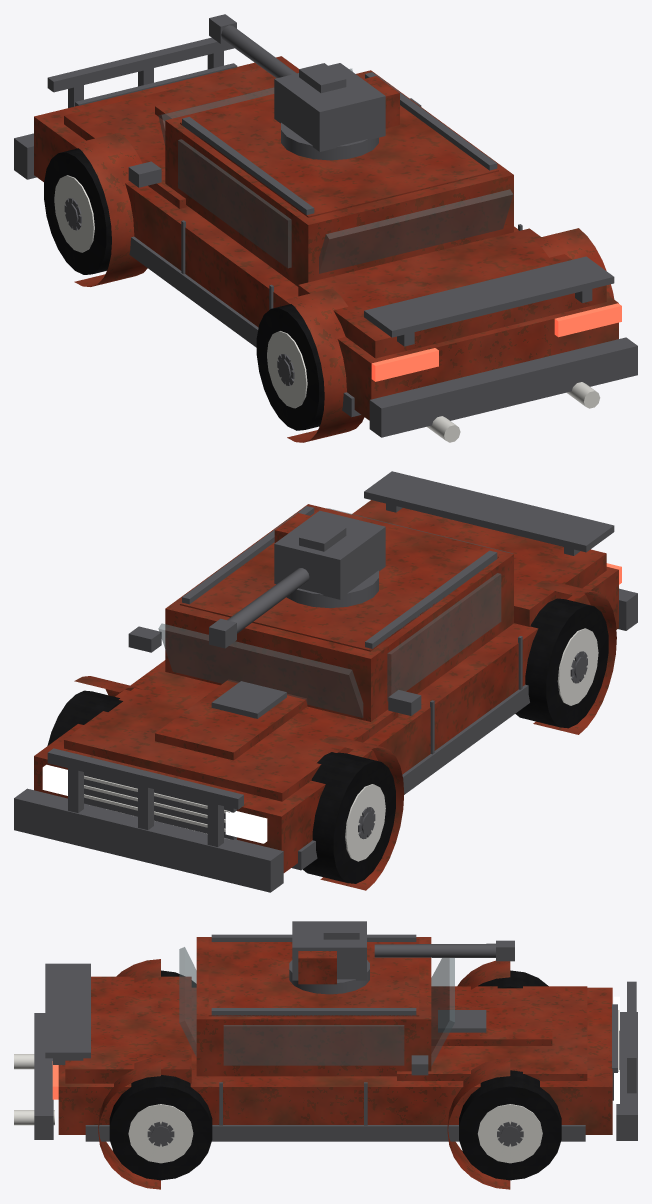
Rendered from player_muscle.glb.
3 views of the same model, one above another, from view 1: azimuth 30°, elevation 25°; view 2: azimuth 150°, elevation 25°; view 3: azimuth 270°, elevation 25° (orthographic). The views are drawn at different scales.
Visible parts, largest first — view 1: player_Body, Turret, Hood, Wheel_RL, Wheel_FL, Barrel; view 2: player_Body, Hood, Wheel_FL, Wheel_RL, Turret, Barrel, Wheel_FR; view 3: player_Body, Hood, Wheel_FR, Wheel_RR, Turret, Barrel, Wheel_FL.
Part boxes in pixels (left/top/right/bottom): player_Body: left=14, top=37, right=637, bottom=442; Turret: left=274, top=63, right=399, bottom=160; Hood: left=64, top=62, right=296, bottom=208; Wheel_RL: left=256, top=304, right=324, bottom=430; Wheel_FL: left=44, top=148, right=111, bottom=274; Barrel: left=209, top=14, right=296, bottom=78; player_Body: left=14, top=471, right=637, bottom=892; Hood: left=64, top=666, right=398, bottom=801; Wheel_FL: left=303, top=752, right=395, bottom=883; Wheel_RL: left=515, top=598, right=608, bottom=728; Turret: left=274, top=510, right=385, bottom=608; Barrel: left=209, top=568, right=309, bottom=648; Wheel_FR: left=47, top=690, right=122, bottom=745; player_Body: left=14, top=934, right=637, bottom=1189; Hood: left=397, top=986, right=587, bottom=1080; Wheel_FR: left=459, top=1070, right=561, bottom=1180; Wheel_RR: left=109, top=1075, right=212, bottom=1180; Turret: left=289, top=921, right=369, bottom=994; Barrel: left=374, top=940, right=514, bottom=961; Wheel_FL: left=478, top=970, right=548, bottom=988.
Bounding box in the file's own units: 2.34 × 1.86 × 5.18.
7 materials, 2 textured.
